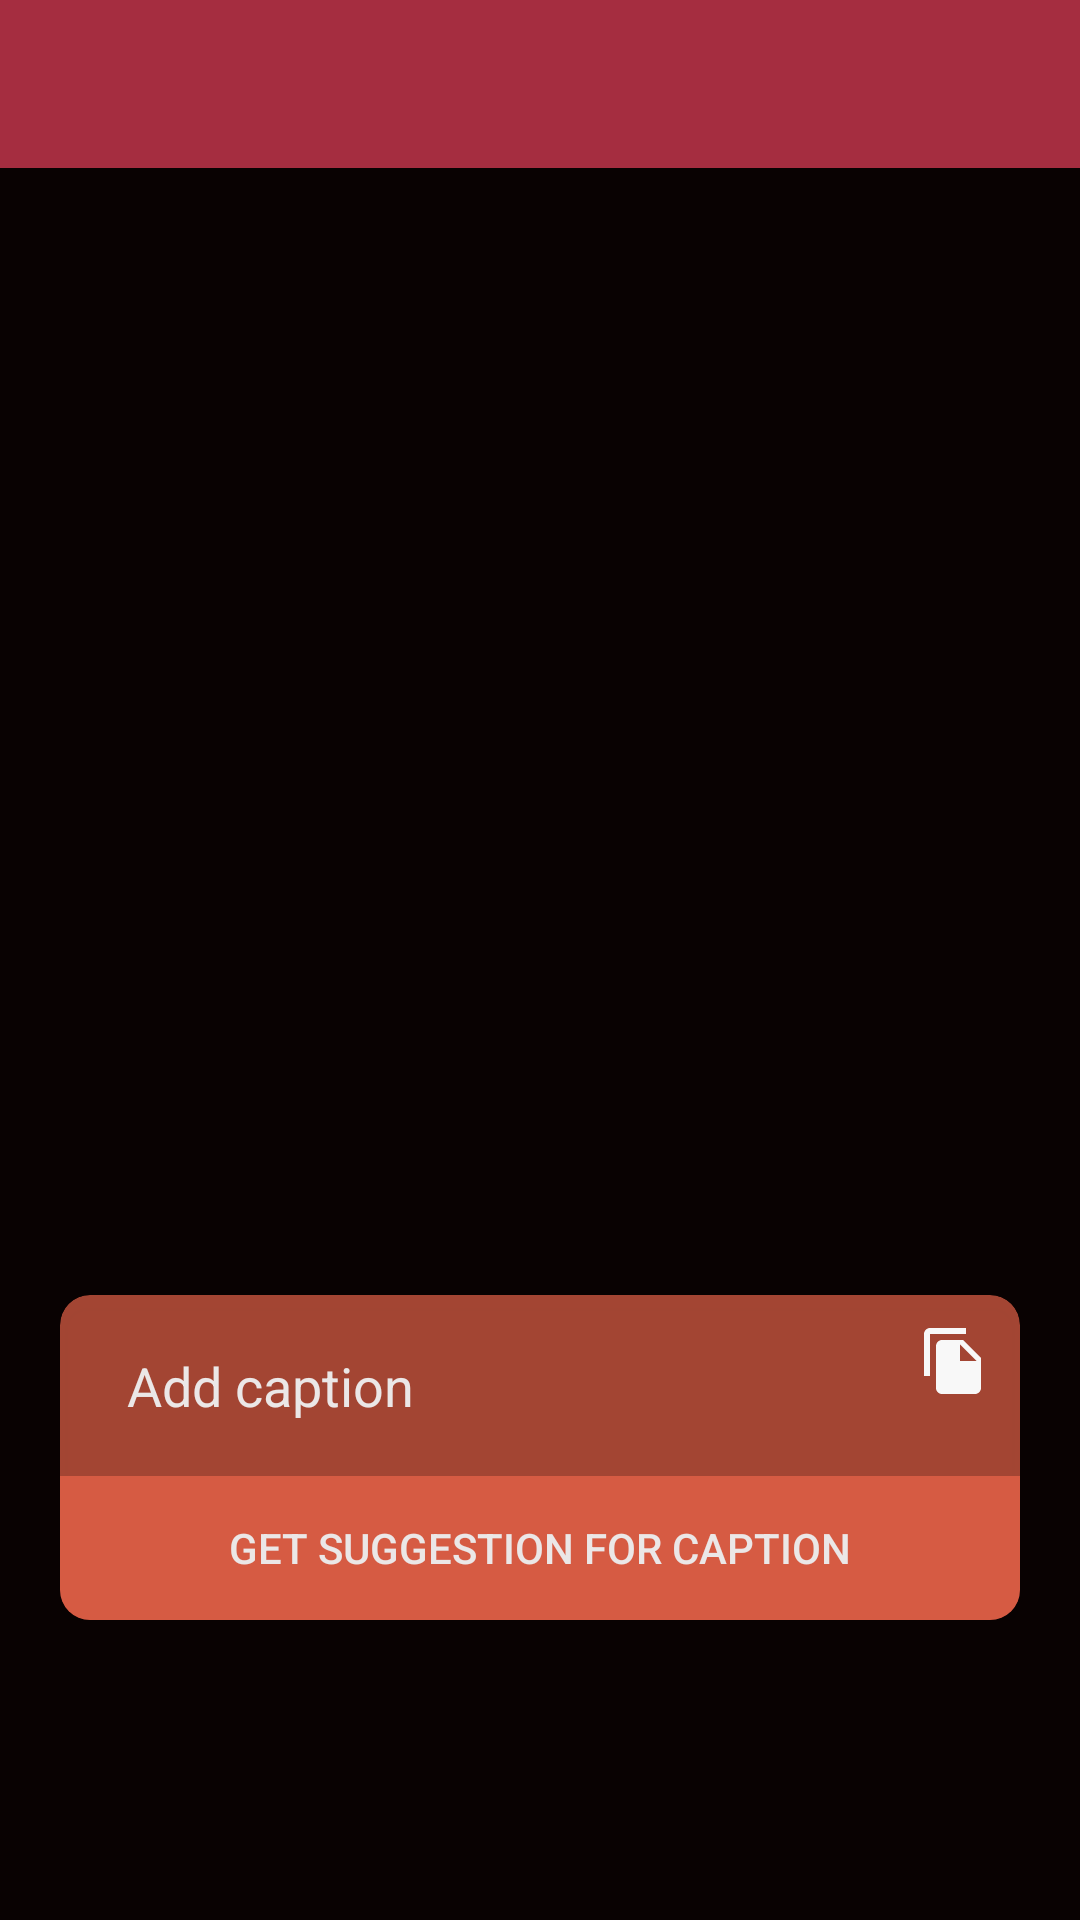

Icon click points for this 1080 x 1920 phone screenshot, format [x,y]:
file: [952,1361]
